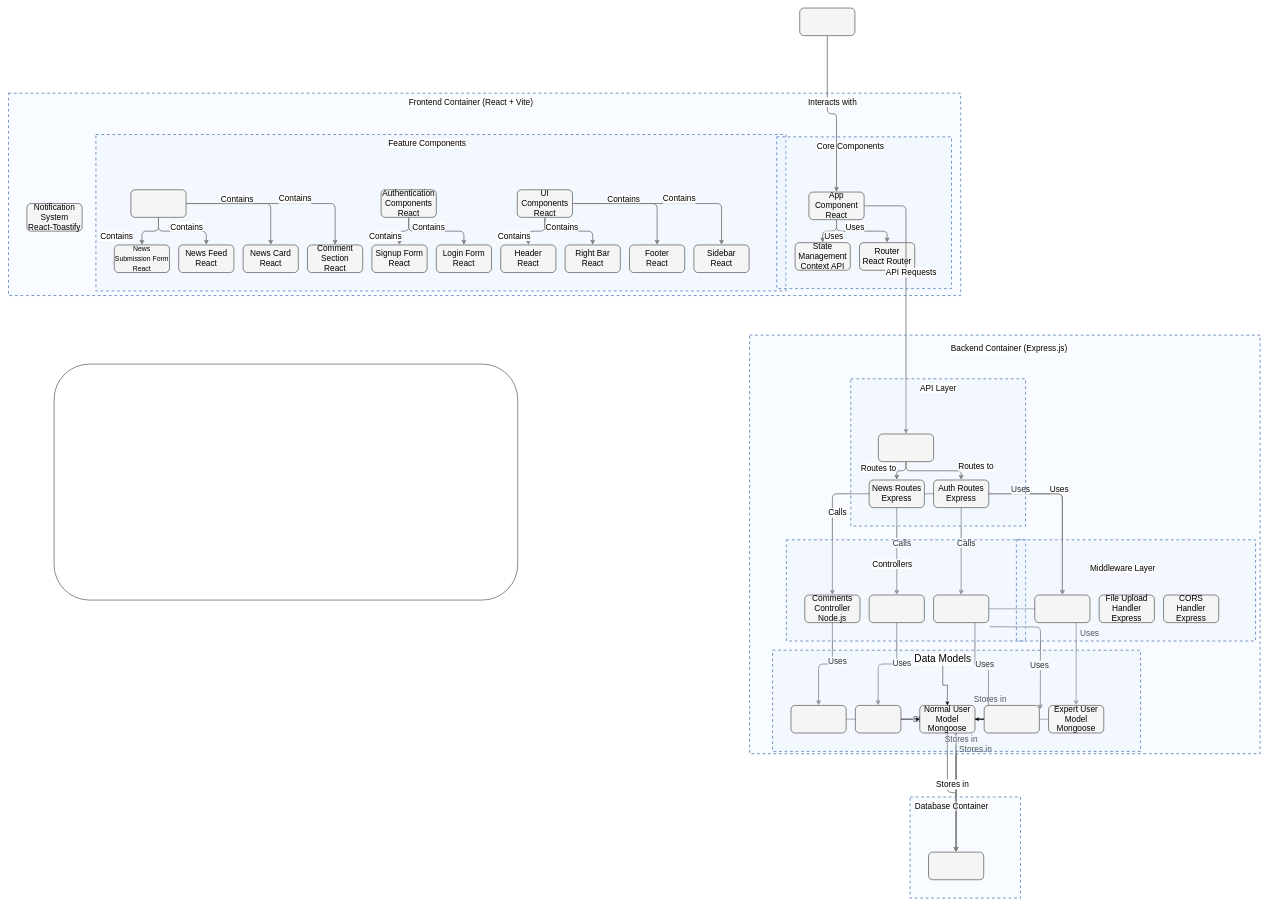
Image size: 1268x907. Some labels were removed from this diagram. The centre of each missing label's shape, as x and y in pixels:
Auth Middleware JWT: point (1062, 609)
Comments Model Mongoose: point (818, 719)
Community User Model Mongoose: point (1011, 719)
DATA FLOW DIAGRAM: point (286, 482)
Express Server Node.js: point (906, 448)
MongoDB Database MongoDB: point (956, 866)
News Components React: point (158, 203)
News Controller Node.js: point (896, 609)
News Model Mongoose: point (878, 719)
User: point (827, 22)
User Controller Node.js: point (961, 609)
